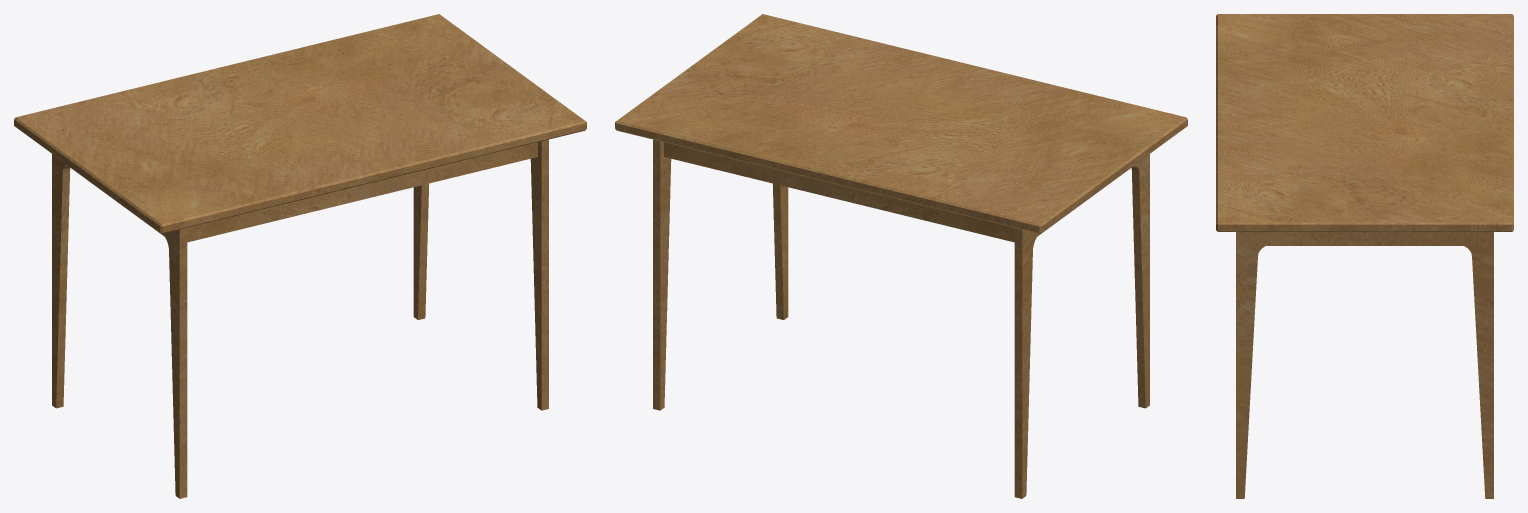
The model's file is diningTable_B.fbx.
3 views of the same model, side by side, from view 1: azimuth 30°, elevation 25°; view 2: azimuth 150°, elevation 25°; view 3: azimuth 270°, elevation 25° (orthographic).
Visible parts, largest first — view 1: diningtable_B; view 2: diningtable_B; view 3: diningtable_B.
Part boxes in pixels (x1=…): diningtable_B: x1=14, y1=14, x2=586, y2=498; diningtable_B: x1=615, y1=14, x2=1187, y2=498; diningtable_B: x1=1216, y1=14, x2=1513, y2=498.
Bounding box in the file's own units: 116 × 74.54 × 69.37.
Materials: 1 (1 with a texture image).
